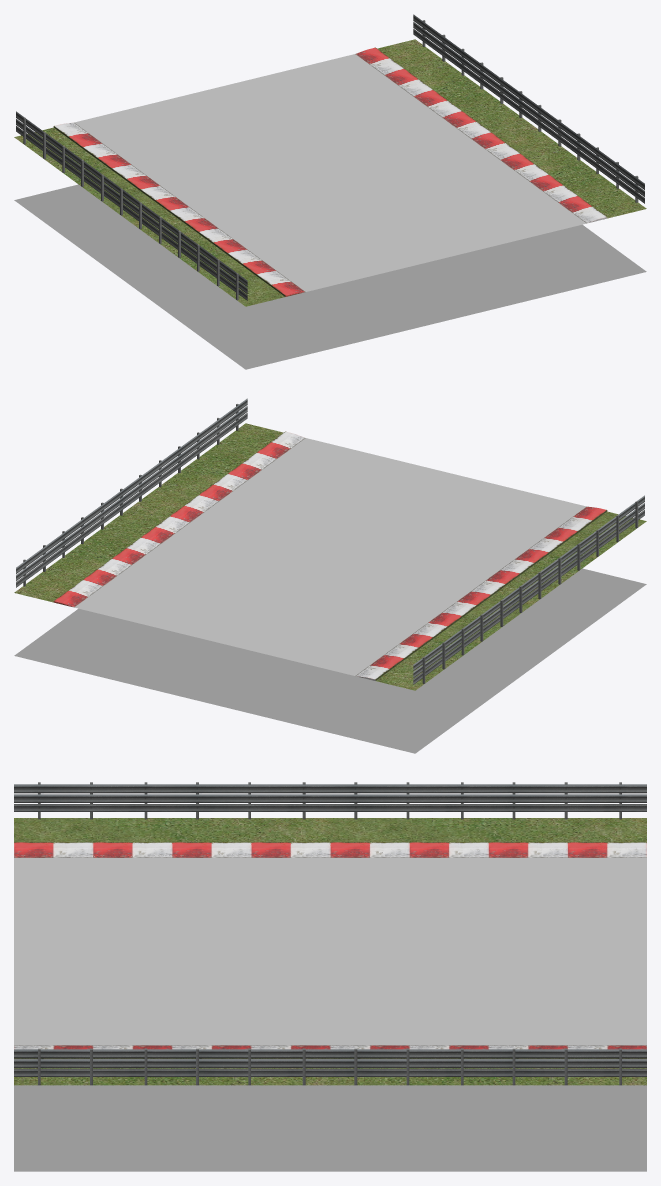
Rendered from Track_Finish_Line_Mobile.fbx.
3 views of the same model, one above another, from view 1: azimuth 30°, elevation 25°; view 2: azimuth 150°, elevation 25°; view 3: azimuth 270°, elevation 25° (orthographic). The views are drawn at different scales.
Parts seen in each view (by area): view 1: Road, Snap_Plane_Invisible, Grass, Curb_B, Rail_B, Rail_A, Carb_A; view 2: Road, Snap_Plane_Invisible, Grass, Curb_B, Rail_A, Rail_B, Carb_A; view 3: Road, Snap_Plane_Invisible, Grass, Rail_B, Rail_A, Carb_A, Curb_B.
Boxes of the visible parts, x1=… form: Road: x1=74, y1=54, x2=586, y2=291; Snap_Plane_Invisible: x1=14, y1=184, x2=646, y2=369; Grass: x1=14, y1=39, x2=646, y2=306; Curb_B: x1=355, y1=47, x2=607, y2=223; Rail_B: x1=413, y1=14, x2=644, y2=203; Rail_A: x1=16, y1=111, x2=247, y2=300; Carb_A: x1=53, y1=122, x2=305, y2=296; Road: x1=74, y1=438, x2=586, y2=675; Snap_Plane_Invisible: x1=14, y1=568, x2=646, y2=753; Grass: x1=14, y1=423, x2=646, y2=690; Curb_B: x1=53, y1=431, x2=305, y2=607; Rail_A: x1=413, y1=495, x2=644, y2=684; Rail_B: x1=16, y1=398, x2=247, y2=587; Carb_A: x1=355, y1=506, x2=607, y2=680; Road: x1=14, y1=858, x2=646, y2=1045; Snap_Plane_Invisible: x1=14, y1=1085, x2=646, y2=1171; Grass: x1=14, y1=818, x2=646, y2=1085; Rail_B: x1=14, y1=1048, x2=646, y2=1085; Rail_A: x1=14, y1=782, x2=646, y2=819; Carb_A: x1=14, y1=842, x2=646, y2=857; Curb_B: x1=14, y1=1045, x2=646, y2=1058.
Bounding box in the file's own units: 20 × 4.24 × 20.
